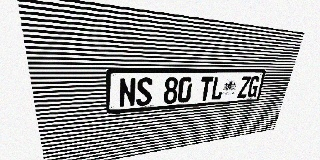0: (177, 77, 193, 103)
8: (163, 77, 179, 104)
G: (246, 76, 260, 98)
L: (210, 76, 225, 100)
N: (119, 77, 136, 108)
S: (136, 77, 153, 106)
T: (198, 76, 214, 101)
Z: (237, 76, 251, 98)
